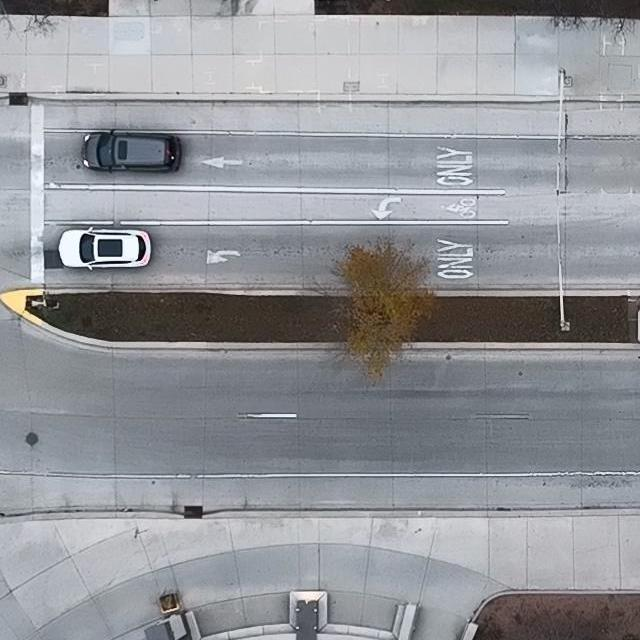car: (82, 129, 180, 174), (58, 226, 152, 272)
